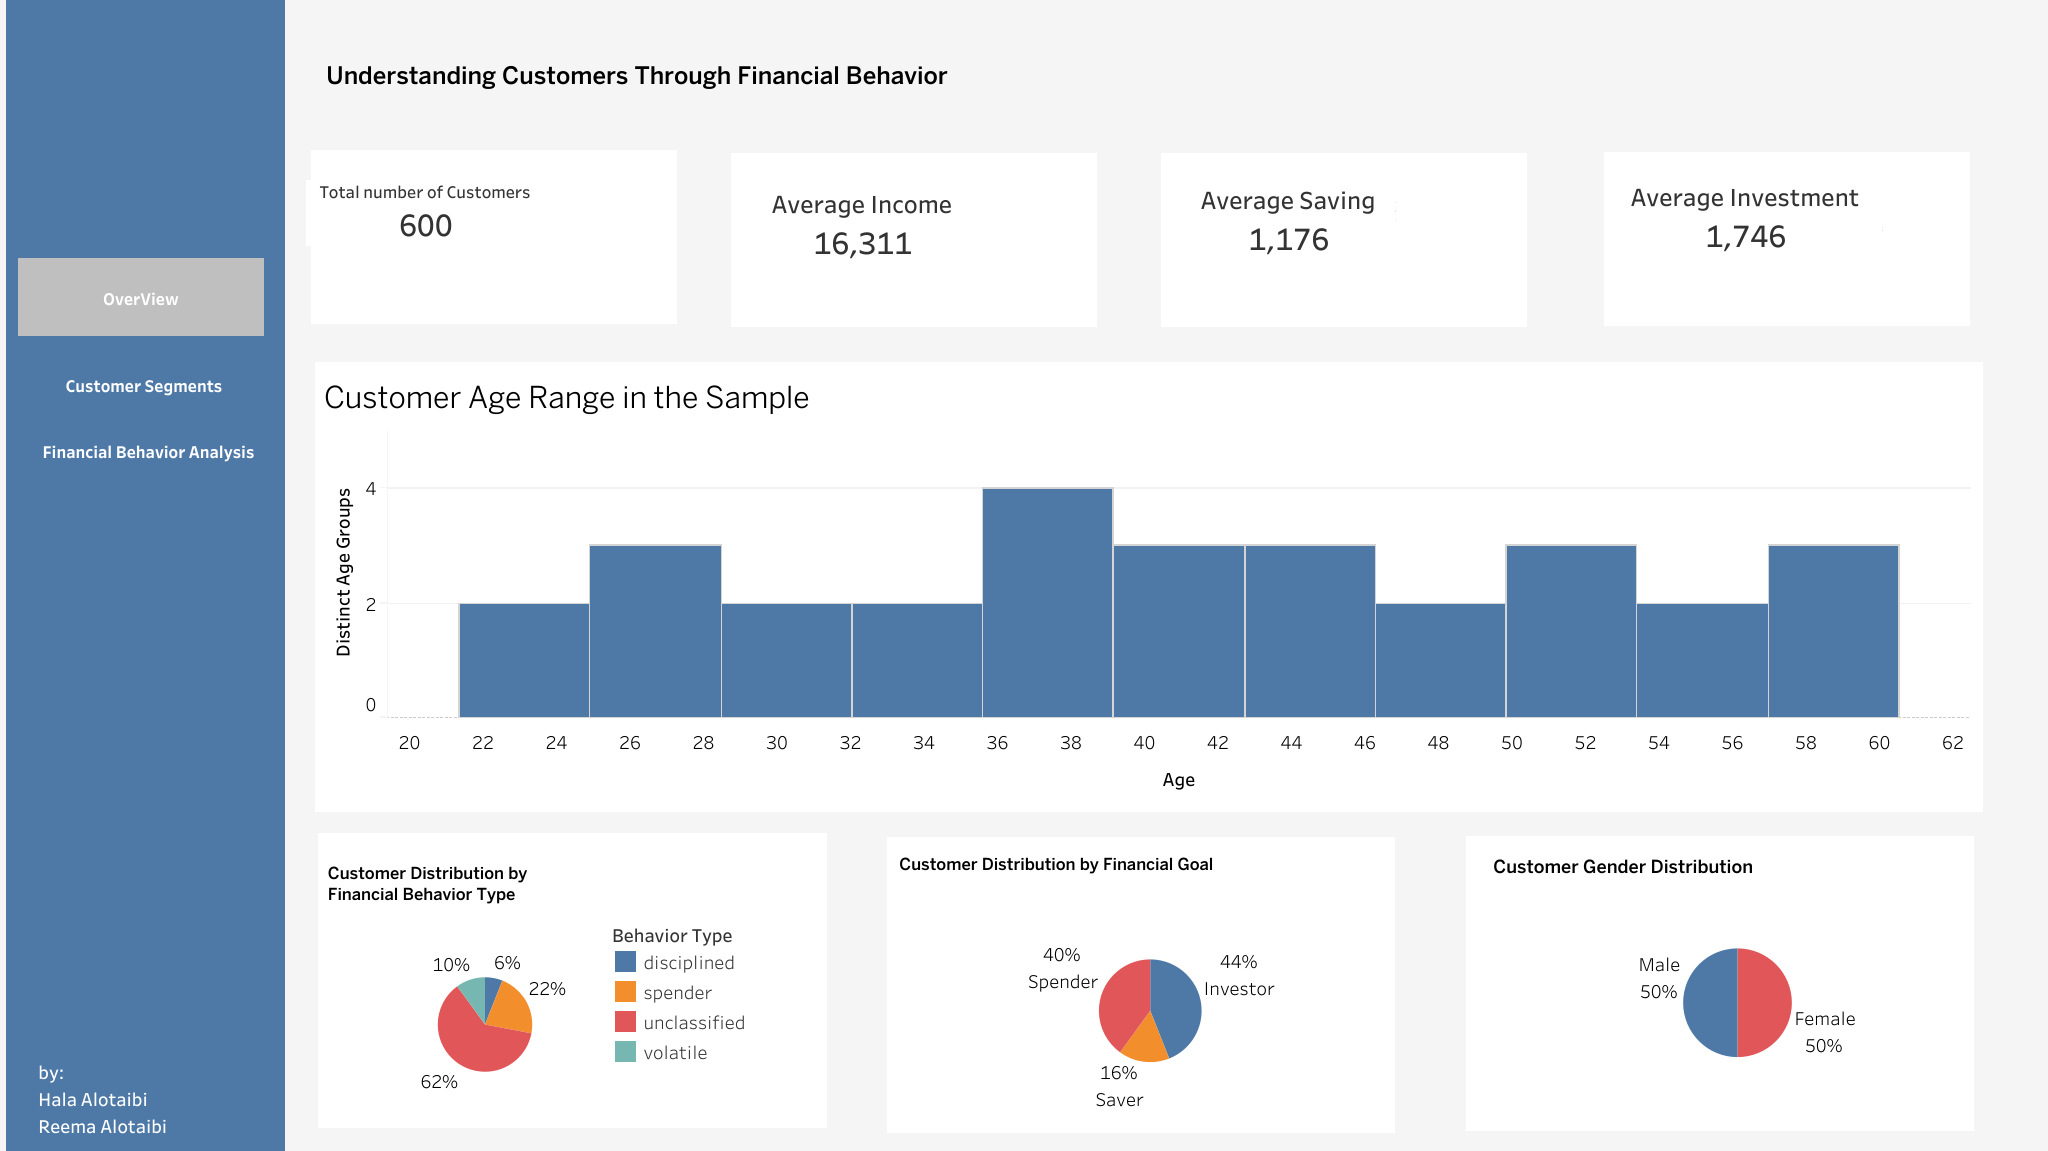

The dashboard page shown, as its layout file describes it:
{"tool":"tableau","page":{"name":"Overview","canvas":[1366,768],"ordinal":2},"visuals":[{"type":"text","box":[215,21,455,58]},{"type":"worksheet","title":"Sheet 7","mark":"Automatic","box":[1074,104,264,115]},{"type":"worksheet","title":"Sheet 1","mark":"Automatic","box":[204,105,236,119]},{"type":"worksheet","title":"Sheet 6","mark":"Automatic","box":[789,106,243,113]},{"type":"worksheet","title":"Sheet 5","mark":"Automatic","box":[505,109,244,101]},{"type":"dashboard-object","box":[12,172,164,52]},{"type":"dashboard-object","box":[8,234,176,44]},{"type":"worksheet","title":"Sheet 8","mark":"Automatic","rows":["Age"],"cols":["Age (bin)"],"box":[212,245,1102,290]},{"type":"dashboard-object","box":[11,278,176,44]},{"type":"text","box":[216,555,435,67]},{"type":"text","box":[597,561,351,30]},{"type":"text","box":[993,563,268,30]},{"type":"worksheet","title":"Sheet 3","mark":"Pie","box":[1021,581,274,160]},{"type":"worksheet","title":"Sheet 4","mark":"Pie","box":[611,590,311,152]},{"type":"worksheet","title":"Sheet 2","mark":"Pie","box":[215,605,216,141]},{"type":"legend","title":"Sheet 2","param":"[federated.18u8vej0kb0r1h136gkt71jmwwfj].[none:Behavior_Type:nk]","box":[407,612,140,131]},{"type":"text","box":[23,694,137,75]}]}

Visuals, with their boxes on the page's 1366x768 design canvas (x1, y1, x2, y2). These are canvas units, not pixel positions in the 2048x1151 screenshot, which may show the page scaled, cropped or inside an application window:
text: x1=215, y1=21, x2=670, y2=79
"Sheet 7" worksheet: x1=1074, y1=104, x2=1338, y2=219
"Sheet 1" worksheet: x1=204, y1=105, x2=440, y2=224
"Sheet 6" worksheet: x1=789, y1=106, x2=1032, y2=219
"Sheet 5" worksheet: x1=505, y1=109, x2=749, y2=210
dashboard-object: x1=12, y1=172, x2=176, y2=224
dashboard-object: x1=8, y1=234, x2=184, y2=278
"Sheet 8" worksheet: x1=212, y1=245, x2=1314, y2=535
dashboard-object: x1=11, y1=278, x2=187, y2=322
text: x1=216, y1=555, x2=651, y2=622
text: x1=597, y1=561, x2=948, y2=591
text: x1=993, y1=563, x2=1261, y2=593
"Sheet 3" worksheet (Pie marks): x1=1021, y1=581, x2=1295, y2=741
"Sheet 4" worksheet (Pie marks): x1=611, y1=590, x2=922, y2=742
"Sheet 2" worksheet (Pie marks): x1=215, y1=605, x2=431, y2=746
"Sheet 2" legend: x1=407, y1=612, x2=547, y2=743
text: x1=23, y1=694, x2=160, y2=769
